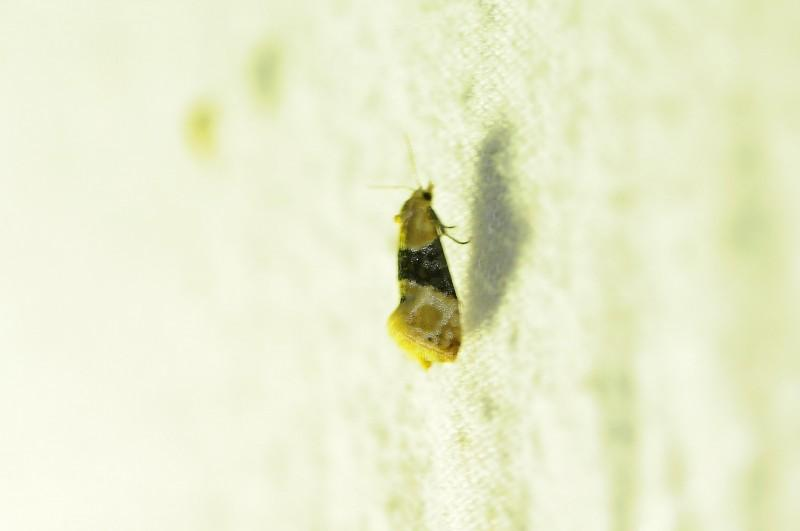Eupoecilia Ambiguella: (373, 132, 473, 371)
